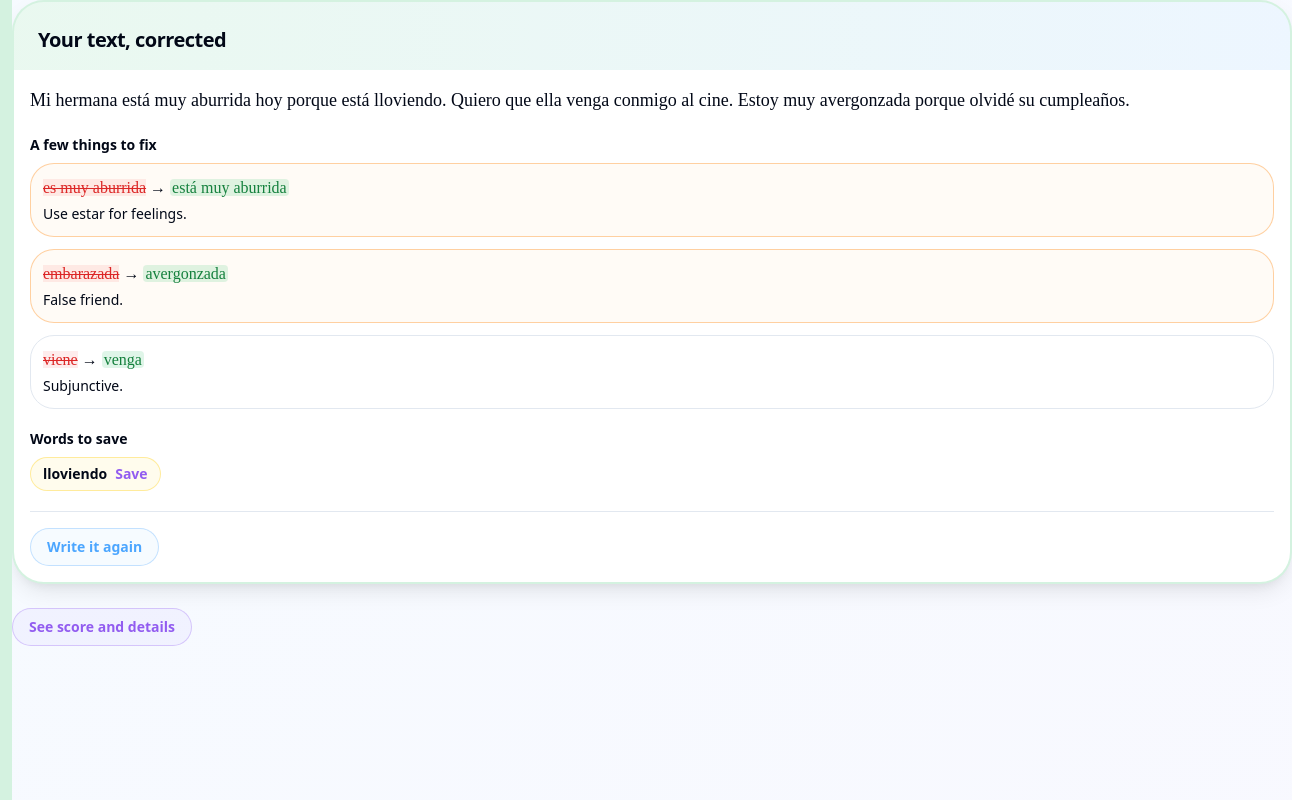
Test: policy-sized result view › compares a retyped correction in the browser without requesting another analysis
Click the button "Write it again" at (95, 547), box [30, 528, 159, 566]
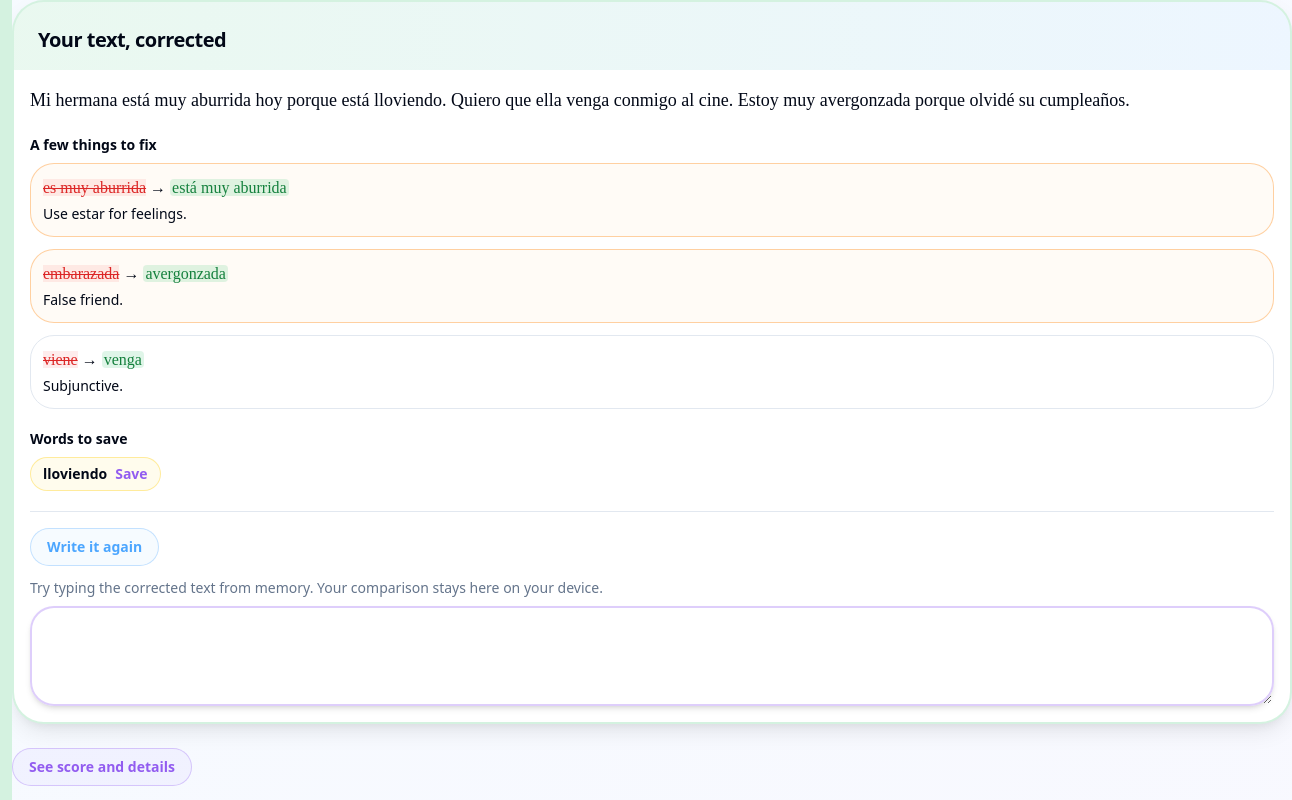
Type "Mi hermana está muy aburrida hoy." into the text box with test id "write-again-input" at (652, 656), box [30, 606, 1274, 706]
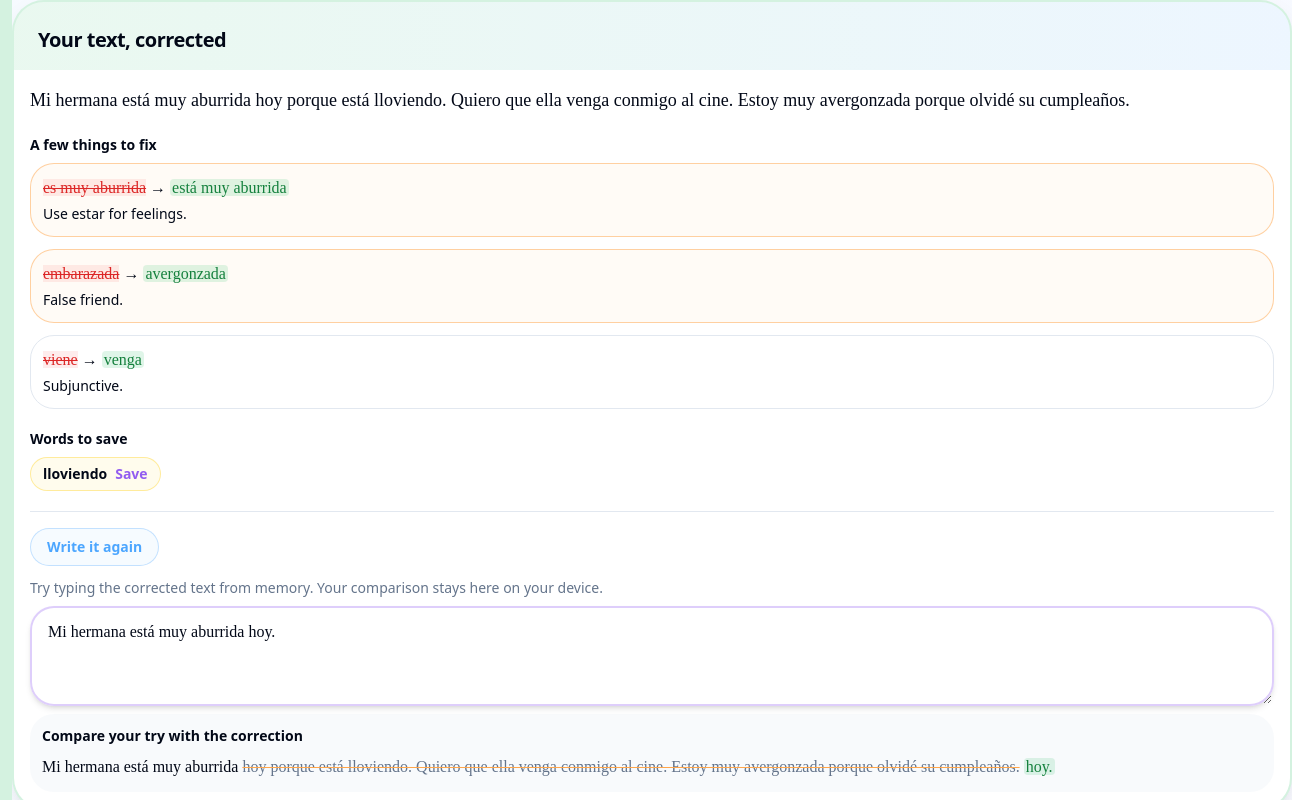
expect the element with test id "write-again-comparison" is shown: met, box [30, 714, 1274, 792]
